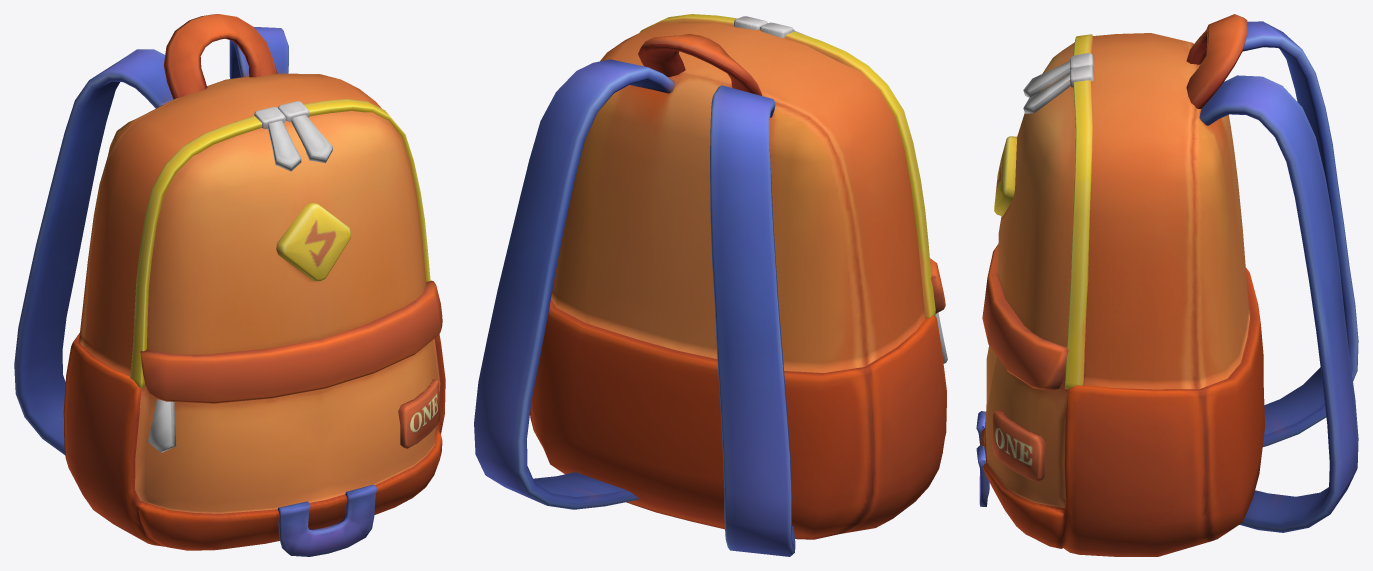
Rendered from BeiBao.FBX.
3 renders of one model, left to right at view 1: azimuth 30°, elevation 25°; view 2: azimuth 150°, elevation 25°; view 3: azimuth 270°, elevation 25°, orthographic. The views are drawn at different scales.
Parts seen in each view (by area): view 1: BeiBao; view 2: BeiBao; view 3: BeiBao.
Boxes of the visible parts, x1,y1,x2,y2 form: BeiBao: [14, 14, 445, 556]; BeiBao: [474, 14, 947, 556]; BeiBao: [976, 14, 1358, 556].
Bounding box in the file's own units: 85.75 × 111 × 80.25.
1 material, 1 textured.
